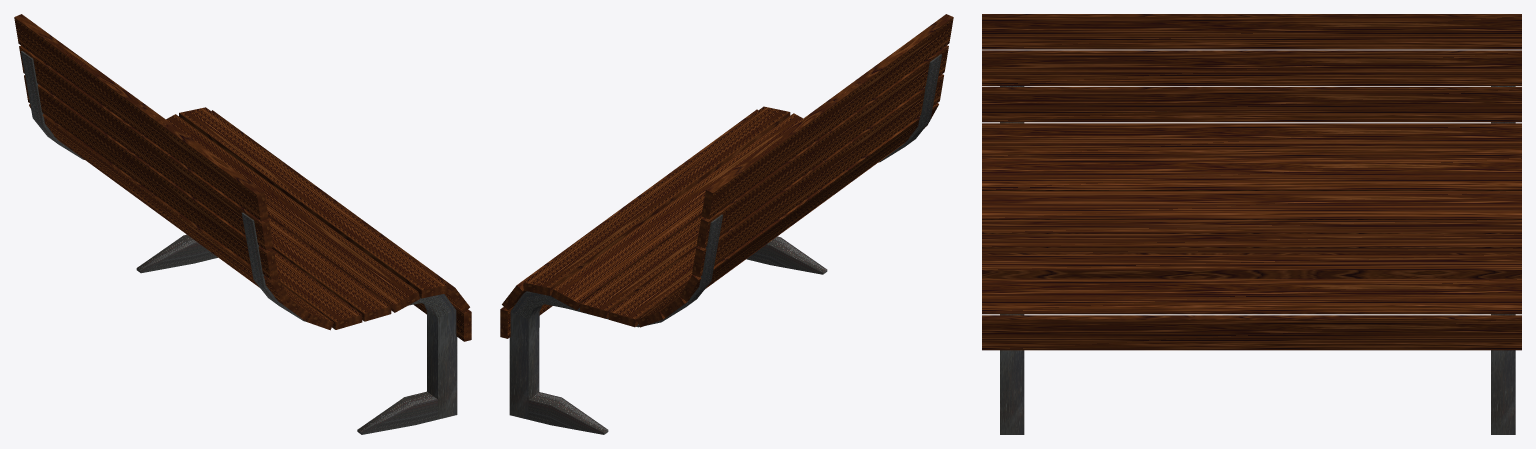
The model's file is Bank.fbx.
3 renders of one model, left to right at view 1: azimuth 30°, elevation 25°; view 2: azimuth 150°, elevation 25°; view 3: azimuth 270°, elevation 25°, orthographic. The views are drawn at different scales.
Parts seen in each view (by area): view 1: Cube_9_1, Cube_2, Cube, Cube_3, Cube_9, Cube_8, Cube_7, Cube_4, Cube_1_2, Cube_4_1, Cube_1, Cube_5 (+2 smaller); view 2: Cube_9_1, Cube_2, Cube_1_2, Cube_3, Cube_9, Cube_8, Cube_7, Cube_4, Cube, Cube_4_1, Cube_1, Cube_5 (+1 smaller); view 3: Cube_1, Cube_8, Cube_0, Cube_9, Cube_9_1, Cube_7, Cube_6, Cube_5, Cube_2, Cube_4_1, Cube_4, Cube_3 (+2 smaller).
Boxes of the visible parts, x1,y1,x2,y2 form: Cube_9_1: [14, 14, 268, 221]; Cube_2: [179, 107, 448, 298]; Cube: [241, 212, 457, 434]; Cube_3: [166, 114, 420, 312]; Cube_9: [19, 45, 273, 250]; Cube_8: [24, 75, 278, 279]; Cube_7: [29, 104, 289, 304]; Cube_4: [267, 216, 391, 321]; Cube_1_2: [20, 51, 217, 273]; Cube_4_1: [274, 250, 362, 329]; Cube_1: [211, 110, 469, 312]; Cube_5: [282, 285, 333, 330]; Cube_9_1: [701, 14, 953, 219]; Cube_2: [523, 106, 790, 295]; Cube_1_2: [509, 214, 722, 434]; Cube_3: [551, 113, 802, 309]; Cube_9: [696, 45, 948, 247]; Cube_8: [692, 74, 943, 277]; Cube_7: [680, 103, 938, 301]; Cube_4: [580, 215, 702, 318]; Cube: [746, 54, 941, 274]; Cube_4_1: [608, 248, 695, 327]; Cube_1: [502, 109, 757, 309]; Cube_5: [637, 282, 687, 327]; Cube_1: [982, 278, 1521, 314]; Cube_8: [982, 86, 1521, 122]; Cube_0: [982, 315, 1521, 350]; Cube_9: [982, 50, 1521, 85]; Cube_9_1: [982, 14, 1521, 49]; Cube_7: [982, 123, 1521, 157]; Cube_6: [982, 158, 1521, 190]; Cube_5: [982, 191, 1521, 219]; Cube_2: [982, 254, 1521, 278]; Cube_4_1: [982, 219, 1521, 233]; Cube_4: [982, 234, 1521, 247]; Cube_3: [982, 248, 1521, 254].
Size of the model in its own units: 563 by 696 by 1100.
Materials: 2 (2 with a texture image).
